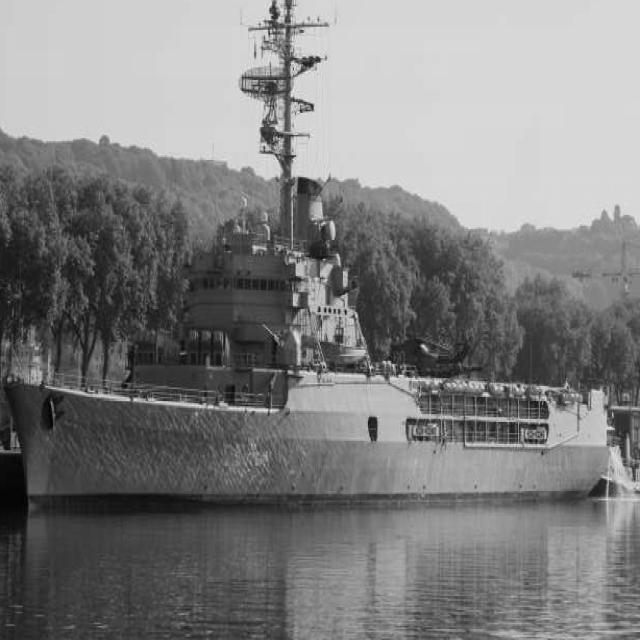Portanaves: (1, 1, 615, 525)
